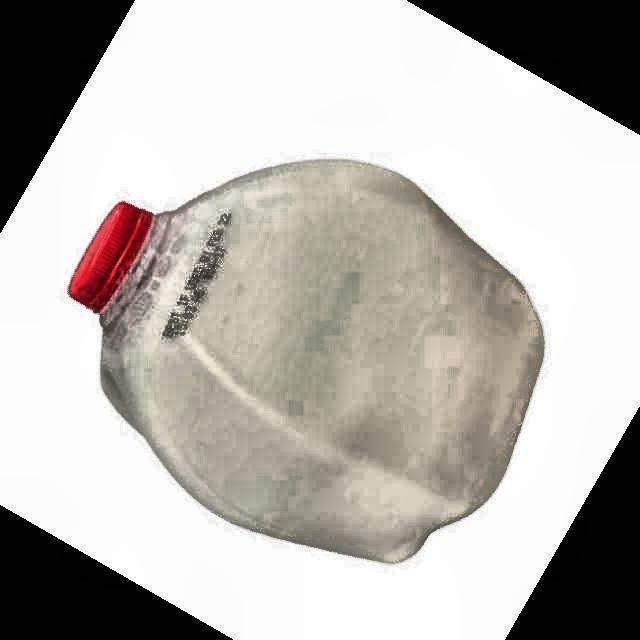plastic: (69, 160, 544, 562)
